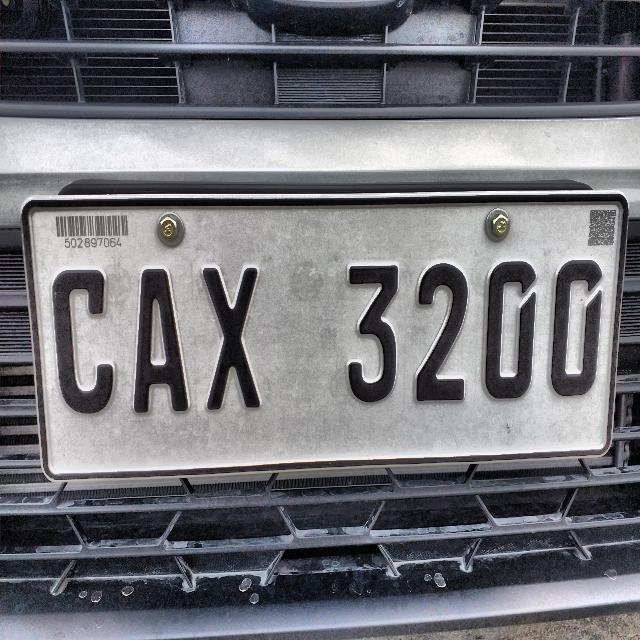license-plate: (21, 180, 640, 482)
